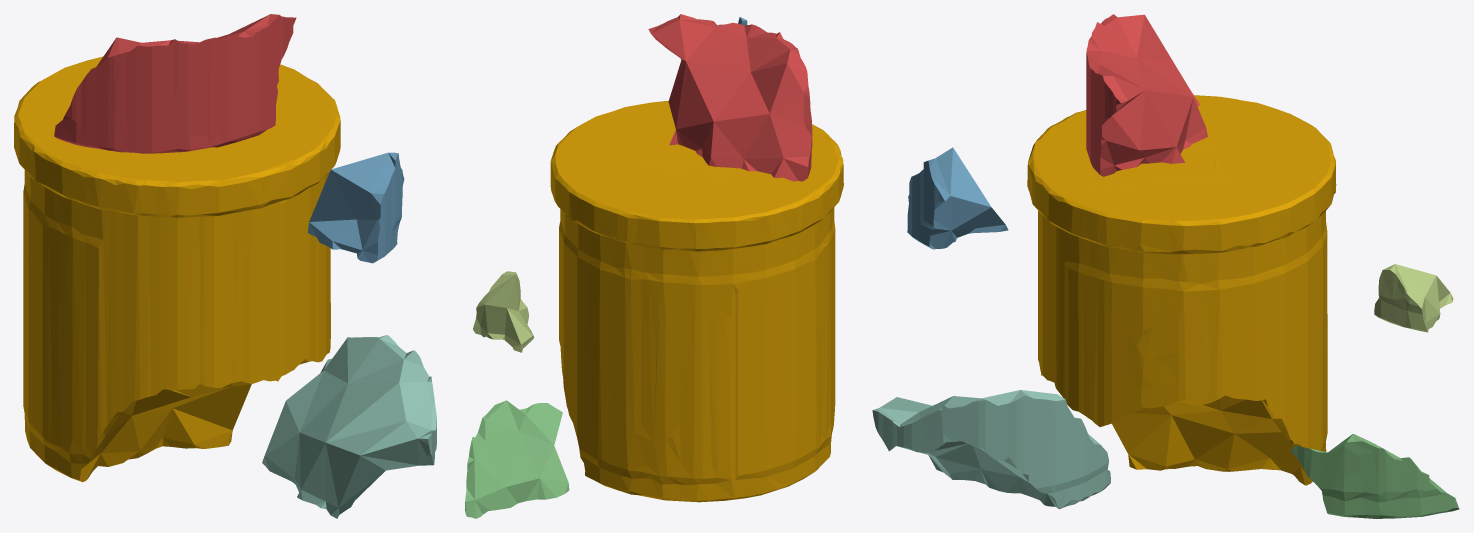
The model's file is fractured_78_6pcs_transformed.glb.
The picture shows the model from 3 angles, left to right: view 1: azimuth 30°, elevation 25°; view 2: azimuth 150°, elevation 25°; view 3: azimuth 270°, elevation 25°; orthographic projection. The views are drawn at different scales.
Parts seen in each view (by area): view 1: piece_0.obj, piece_1.obj, piece_4.obj, piece_2.obj; view 2: piece_0.obj, piece_1.obj, piece_3.obj, piece_5.obj; view 3: piece_0.obj, piece_4.obj, piece_1.obj, piece_3.obj, piece_2.obj, piece_5.obj.
Boxes of the visible parts, <box> form: piece_0.obj: <box>14,56,340,482</box>; piece_1.obj: <box>54,14,296,153</box>; piece_4.obj: <box>262,335,436,518</box>; piece_2.obj: <box>307,152,404,263</box>; piece_0.obj: <box>550,100,843,502</box>; piece_1.obj: <box>648,14,812,181</box>; piece_3.obj: <box>465,400,569,518</box>; piece_5.obj: <box>473,271,534,352</box>; piece_0.obj: <box>1027,95,1336,485</box>; piece_4.obj: <box>872,390,1110,508</box>; piece_1.obj: <box>1086,14,1207,176</box>; piece_3.obj: <box>1290,433,1459,518</box>; piece_2.obj: <box>907,147,1008,249</box>; piece_5.obj: <box>1374,264,1453,332</box>.
Size of the model in its own units: 0.9259 by 1.38 by 1.76.
